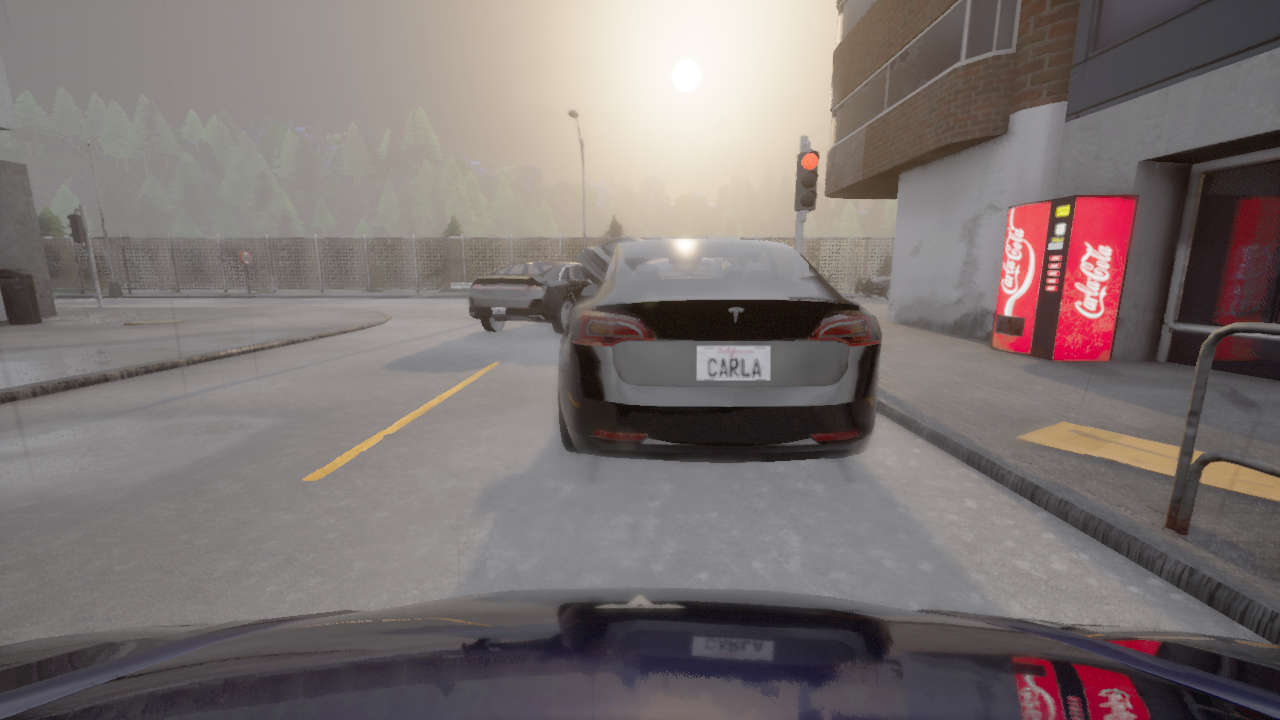cyclist: (0, 588, 1279, 719), (558, 238, 881, 463), (468, 260, 591, 333), (575, 237, 645, 288), (854, 277, 890, 300)
pedestrian: (827, 274, 831, 283)
